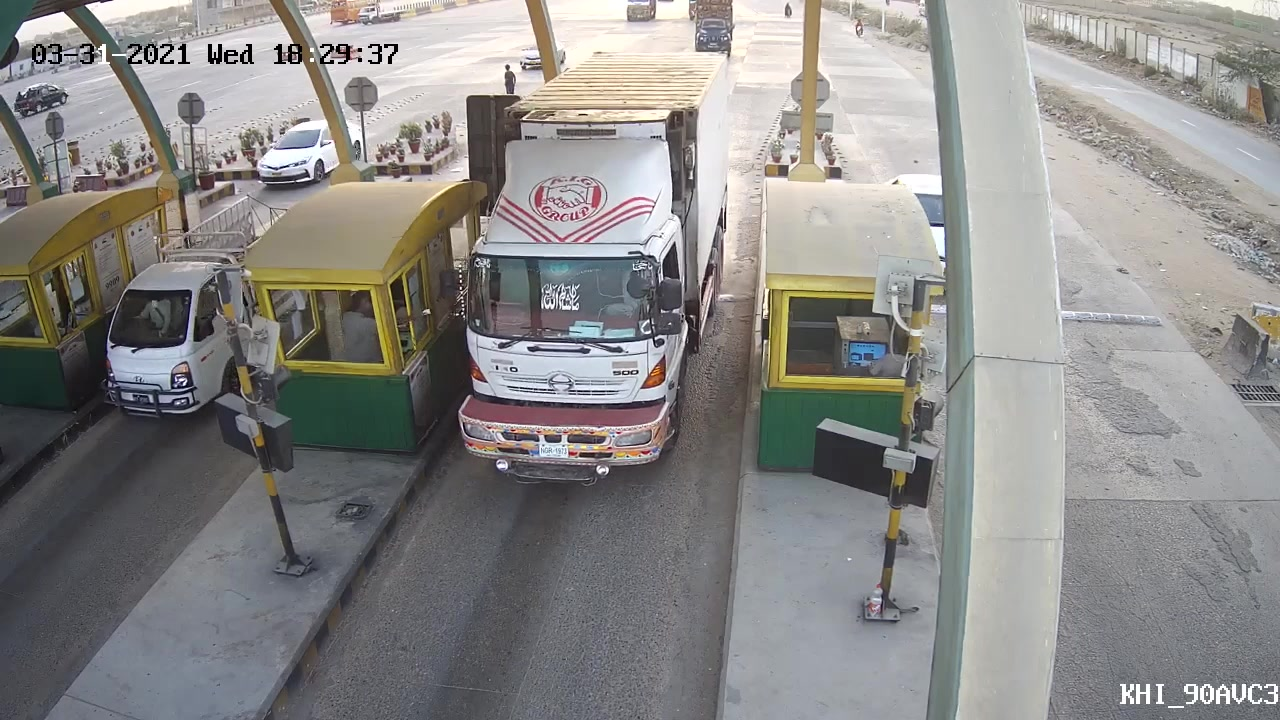F6: (428, 78, 727, 494)
